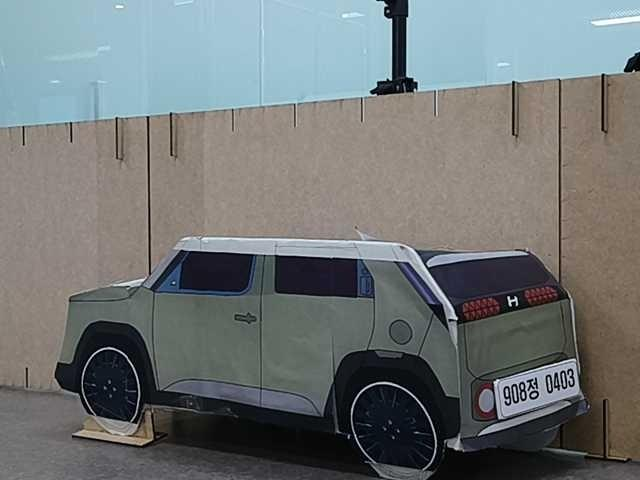car: (48, 232, 592, 480)
id: (489, 358, 583, 418)
